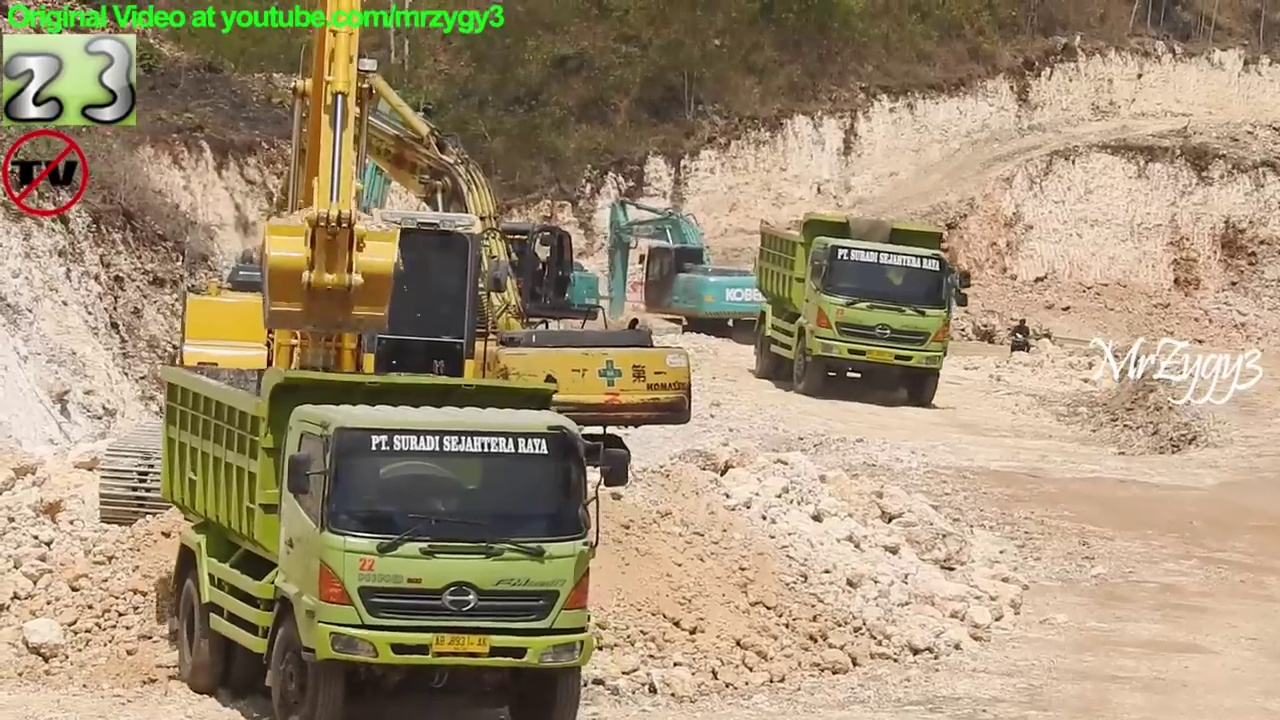excavator: (89, 1, 588, 548), (193, 40, 700, 500), (323, 89, 606, 351), (593, 195, 798, 350)
truck: (144, 354, 637, 720), (744, 206, 975, 413)
